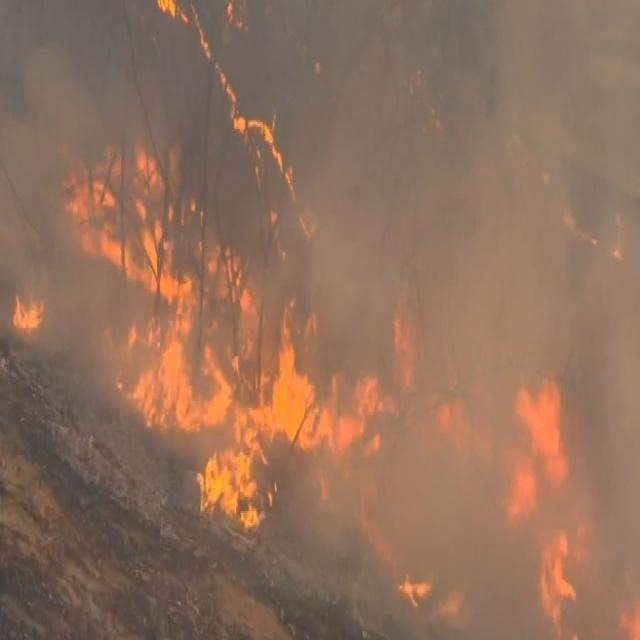Fire: (54, 136, 256, 314), (125, 304, 369, 450), (194, 426, 286, 546), (233, 114, 315, 246), (184, 0, 248, 128), (388, 574, 446, 618), (9, 274, 48, 332), (156, 0, 193, 34)
Smoke: (496, 364, 584, 640)
